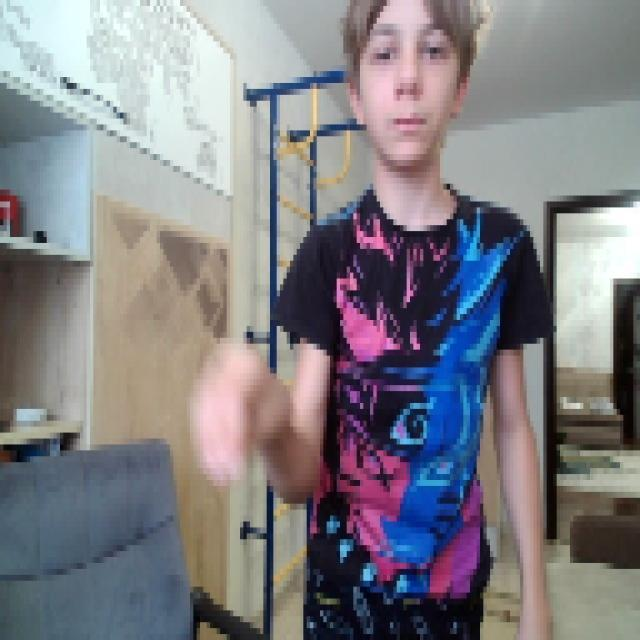left_click: (183, 332, 290, 480)
